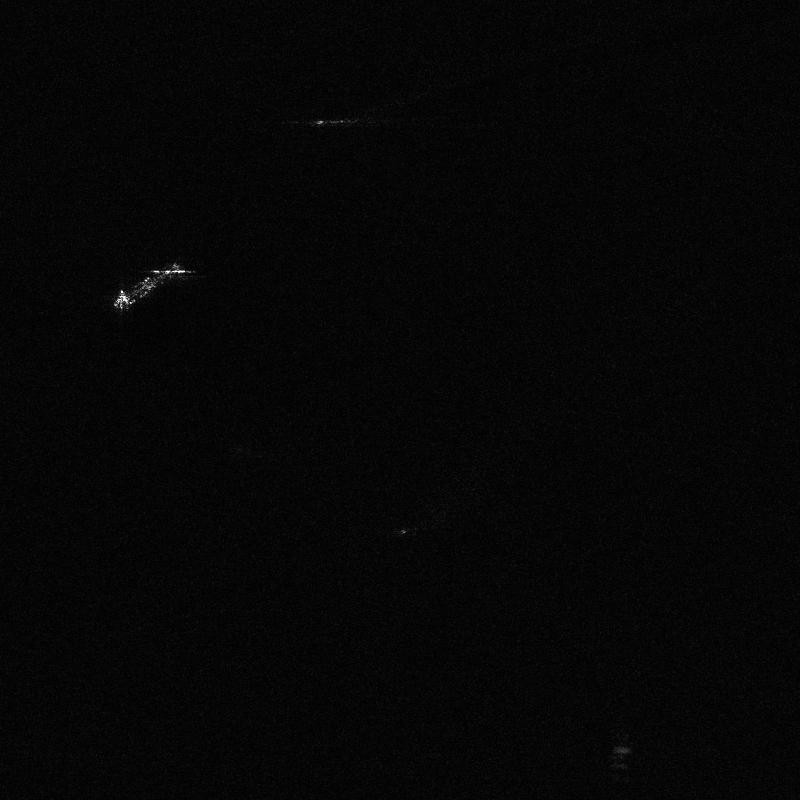ship: (114, 263, 180, 310)
